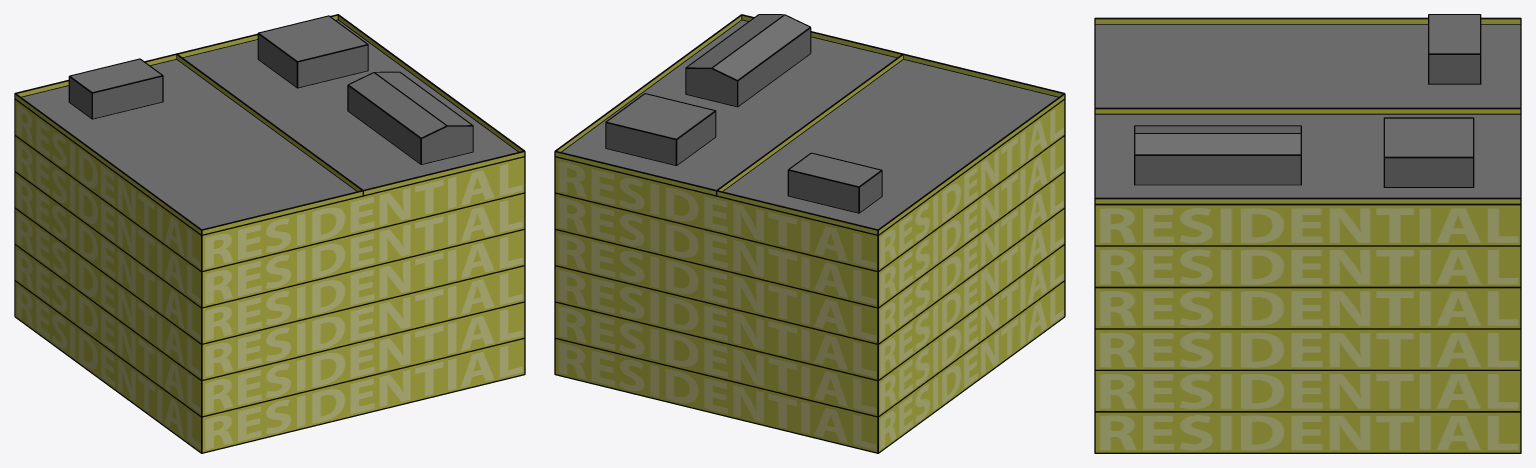
3 renders of one model, left to right at view 1: azimuth 30°, elevation 25°; view 2: azimuth 150°, elevation 25°; view 3: azimuth 270°, elevation 25°, orthographic. The views are drawn at different scales.
Parts seen in each view (by area): view 1: residential_diagrammatic2, floor_slabs_2, black_outline; view 2: residential_diagrammatic2, floor_slabs_2, black_outline; view 3: residential_diagrammatic2, floor_slabs_2, black_outline.
Boxes of the visible parts, x1=… form: residential_diagrammatic2: x1=15, y1=15, x2=524, y2=452; floor_slabs_2: x1=22, y1=16, x2=517, y2=228; black_outline: x1=14, y1=14, x2=525, y2=453; residential_diagrammatic2: x1=555, y1=16, x2=1064, y2=452; floor_slabs_2: x1=562, y1=15, x2=1057, y2=229; black_outline: x1=554, y1=14, x2=1065, y2=453; residential_diagrammatic2: x1=1095, y1=19, x2=1520, y2=452; floor_slabs_2: x1=1095, y1=15, x2=1520, y2=197; black_outline: x1=1094, y1=14, x2=1521, y2=453.
Bounding box in the file's own units: 32.68 × 24.24 × 32.68.
